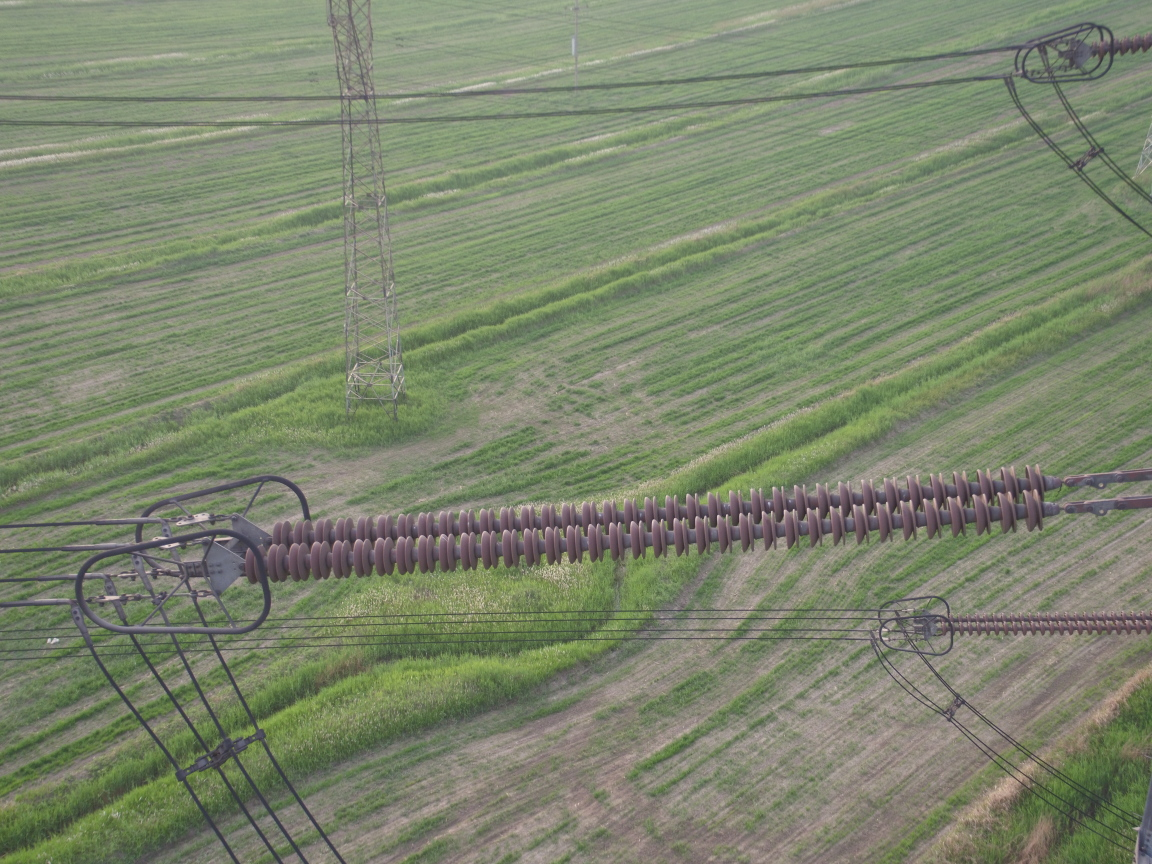insulator: (231, 460, 1107, 590), (934, 609, 1152, 636)
